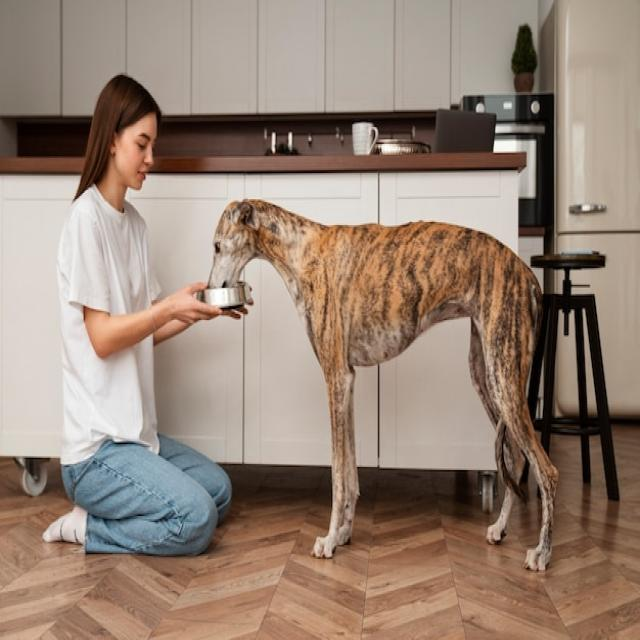Dog: (206, 199, 558, 570)
Person: (41, 71, 252, 559)
